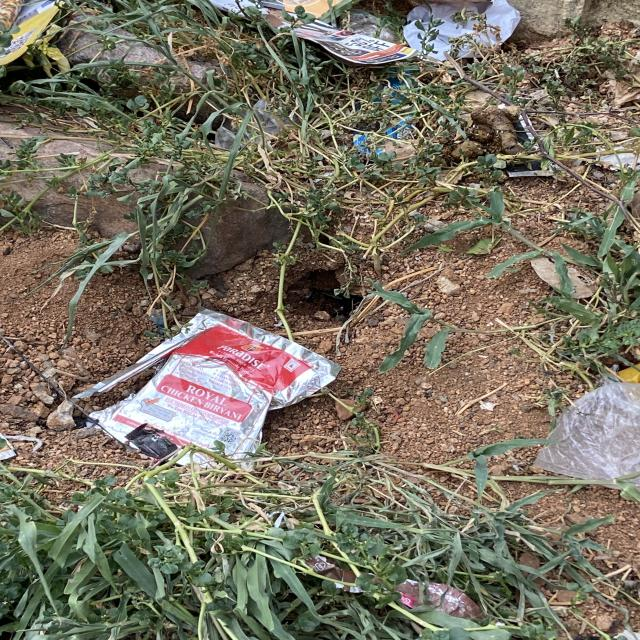giay: (291, 19, 416, 63), (0, 0, 57, 64)
giay_goi: (76, 310, 340, 458)
nhua: (534, 383, 640, 480), (403, 0, 521, 60)
